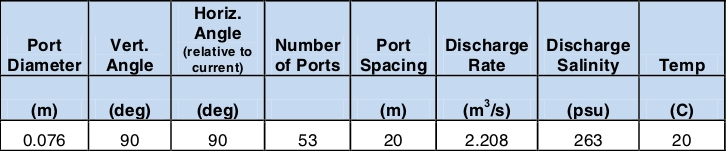column: (434, 1, 540, 151), (541, 1, 640, 151), (170, 1, 265, 151), (1, 1, 90, 150), (349, 1, 437, 150), (87, 1, 173, 150), (265, 1, 352, 147), (640, 1, 725, 148)
row: (1, 1, 726, 77), (1, 72, 725, 122), (2, 121, 723, 148)
